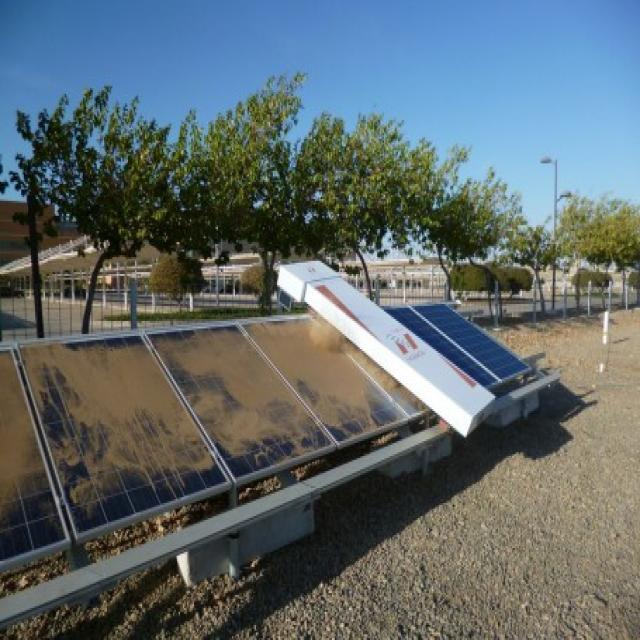faulty: (13, 335, 228, 535), (148, 328, 330, 473), (238, 318, 413, 447), (0, 348, 70, 572)
no faulty: (387, 304, 529, 386)
